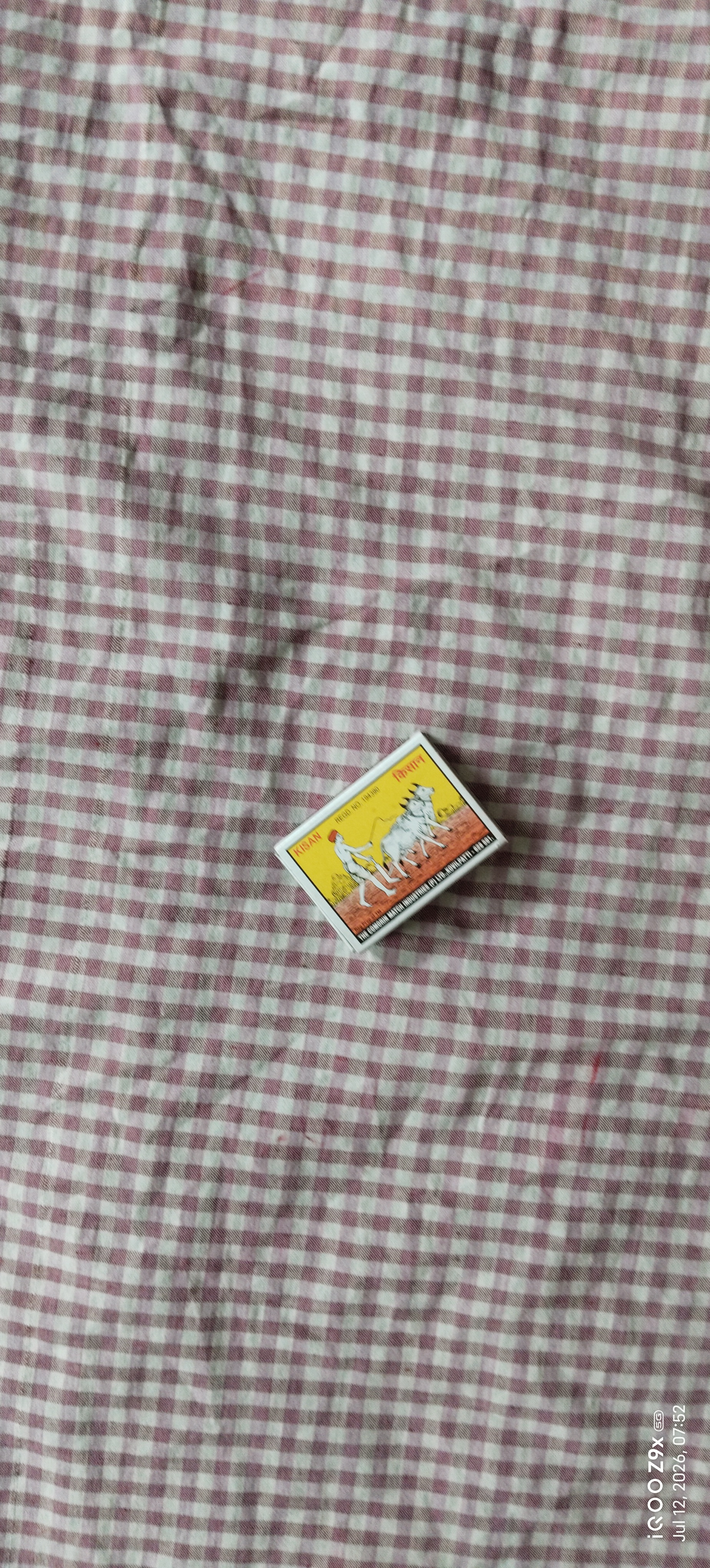matchbox: (240, 678, 542, 1003)
